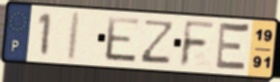1: (36, 12, 53, 57)
E: (213, 19, 252, 74), (104, 15, 142, 65)
F: (178, 19, 218, 69)
I: (64, 9, 83, 63)
Z: (138, 18, 177, 65)
